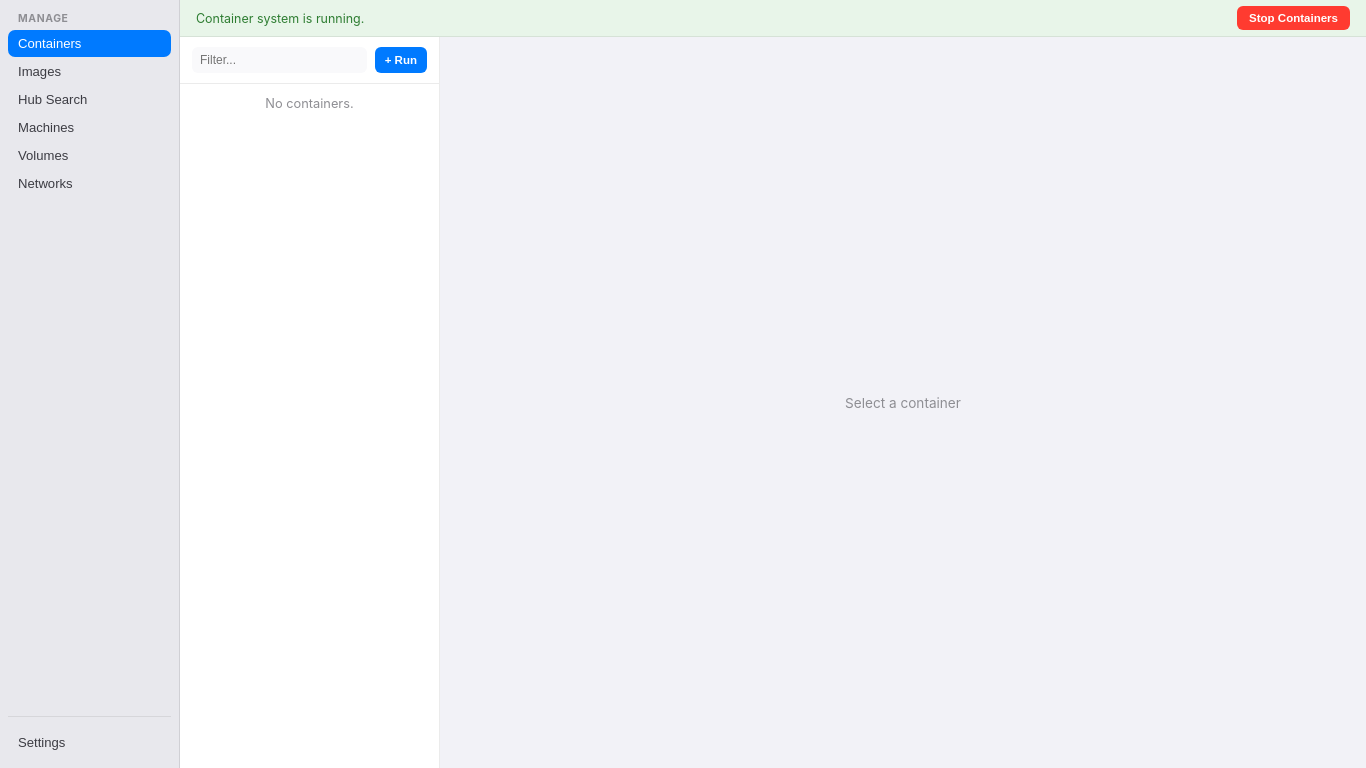
Test case: App system banner › surfaces the reason when stopping the system fails
Click the button "Stop Containers".
click(1294, 18)  # box [1237,6,1350,30]
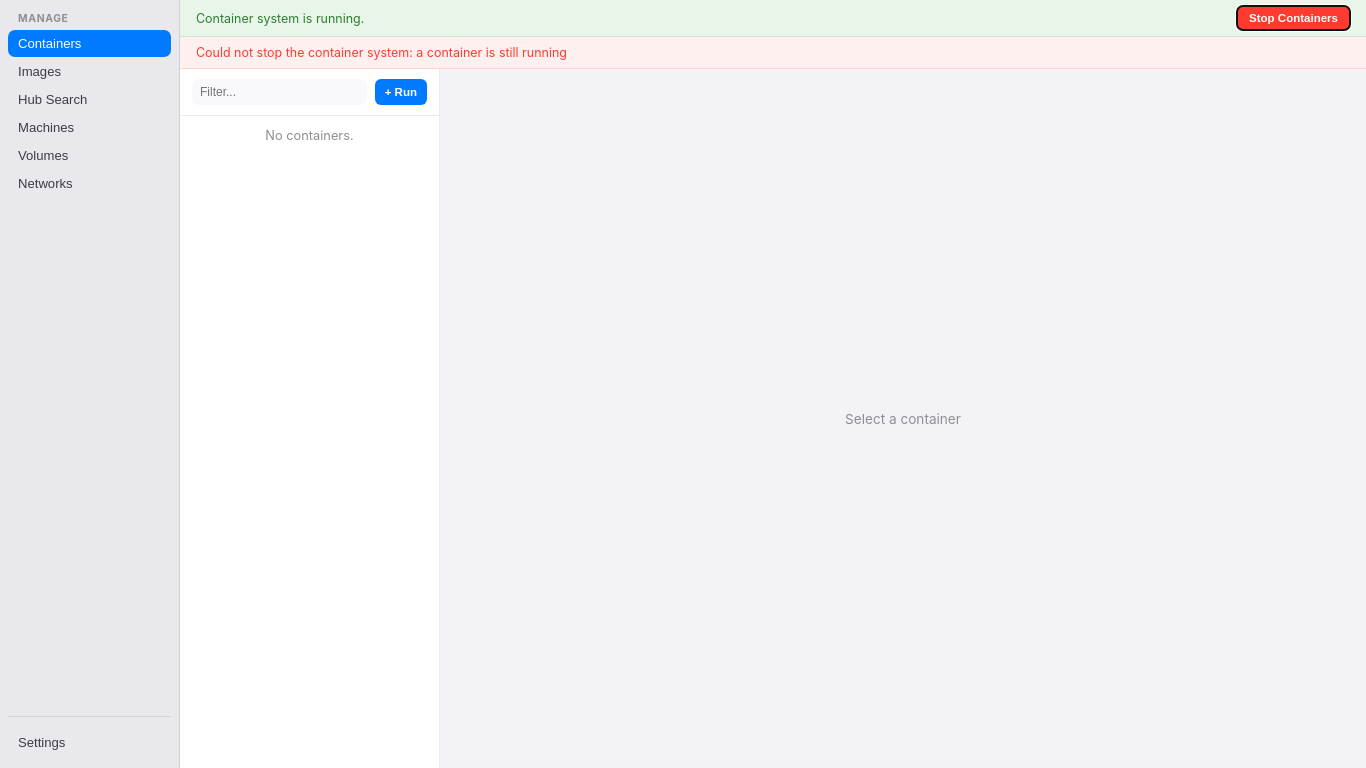
Check: the text "Container system is running." is shown, box [196,10,364,26]
Check: the message shows "a container is still running", box [196,45,567,60]
